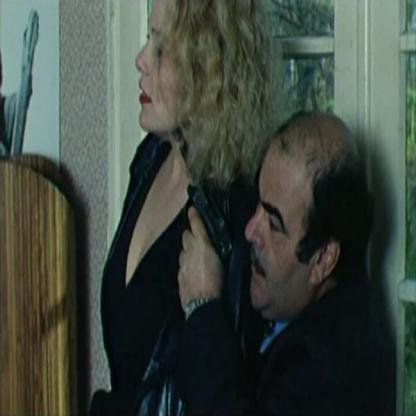Gun: (182, 174, 233, 300)
